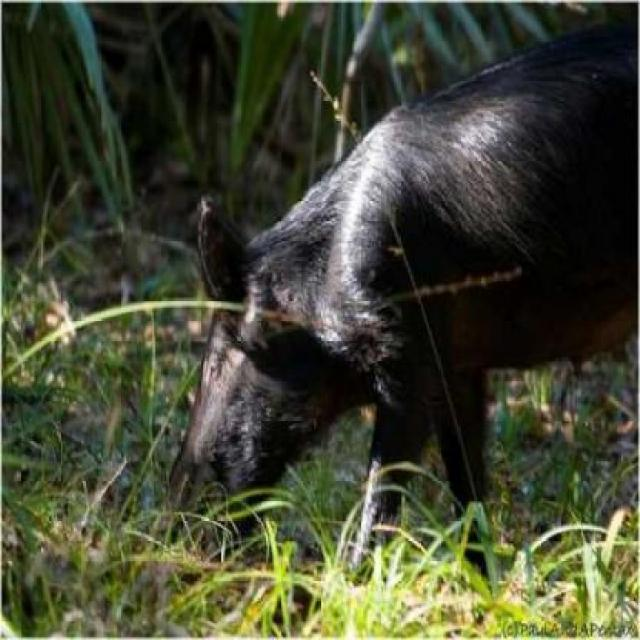pig: (134, 14, 638, 566)
